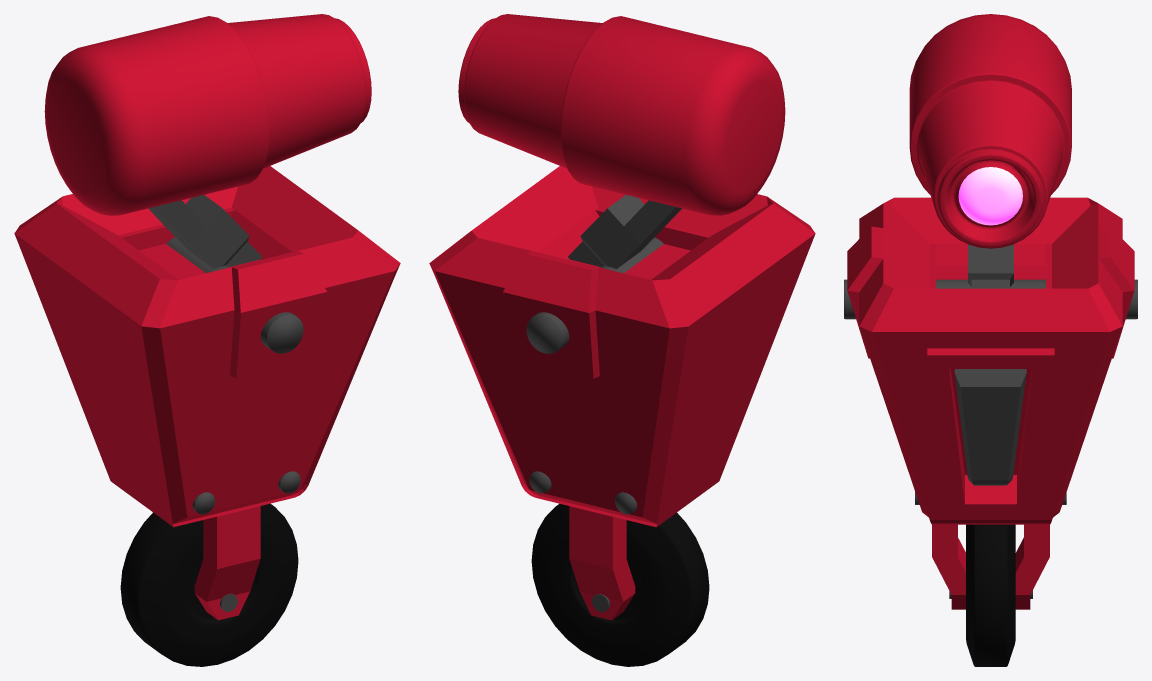
File: Robot.fbx
The picture shows the model from 3 angles, left to right: view 1: azimuth 30°, elevation 25°; view 2: azimuth 150°, elevation 25°; view 3: azimuth 270°, elevation 25°; orthographic projection. The views are drawn at different scales.
Parts seen in each view (by area): view 1: Cube, Cylinder, Cylinder.001, Cube.001, Cylinder.003; view 2: Cube, Cylinder, Cylinder.001, Cube.001, Cylinder.003; view 3: Cube, Cylinder, Cylinder.001, Cube.002, Cube.001, Cylinder.003.
Boxes of the visible parts, x1=… form: Cube: x1=14, y1=166, x2=400, y2=620; Cylinder: x1=44, y1=14, x2=371, y2=215; Cylinder.001: x1=120, y1=503, x2=298, y2=666; Cube.001: x1=148, y1=195, x2=262, y2=268; Cylinder.003: x1=166, y1=237, x2=303, y2=353; Cube: x1=429, y1=166, x2=815, y2=620; Cylinder: x1=458, y1=14, x2=785, y2=215; Cylinder.001: x1=531, y1=503, x2=709, y2=666; Cube.001: x1=568, y1=195, x2=681, y2=269; Cylinder.003: x1=526, y1=237, x2=663, y2=353; Cube: x1=847, y1=197, x2=1134, y2=609; Cylinder: x1=909, y1=14, x2=1071, y2=248; Cylinder.001: x1=966, y1=524, x2=1015, y2=666; Cube.002: x1=954, y1=369, x2=1026, y2=485; Cube.001: x1=968, y1=244, x2=1013, y2=288; Cylinder.003: x1=844, y1=279, x2=1137, y2=319.
Bounding box in the file's own units: 206 × 466 × 209.
